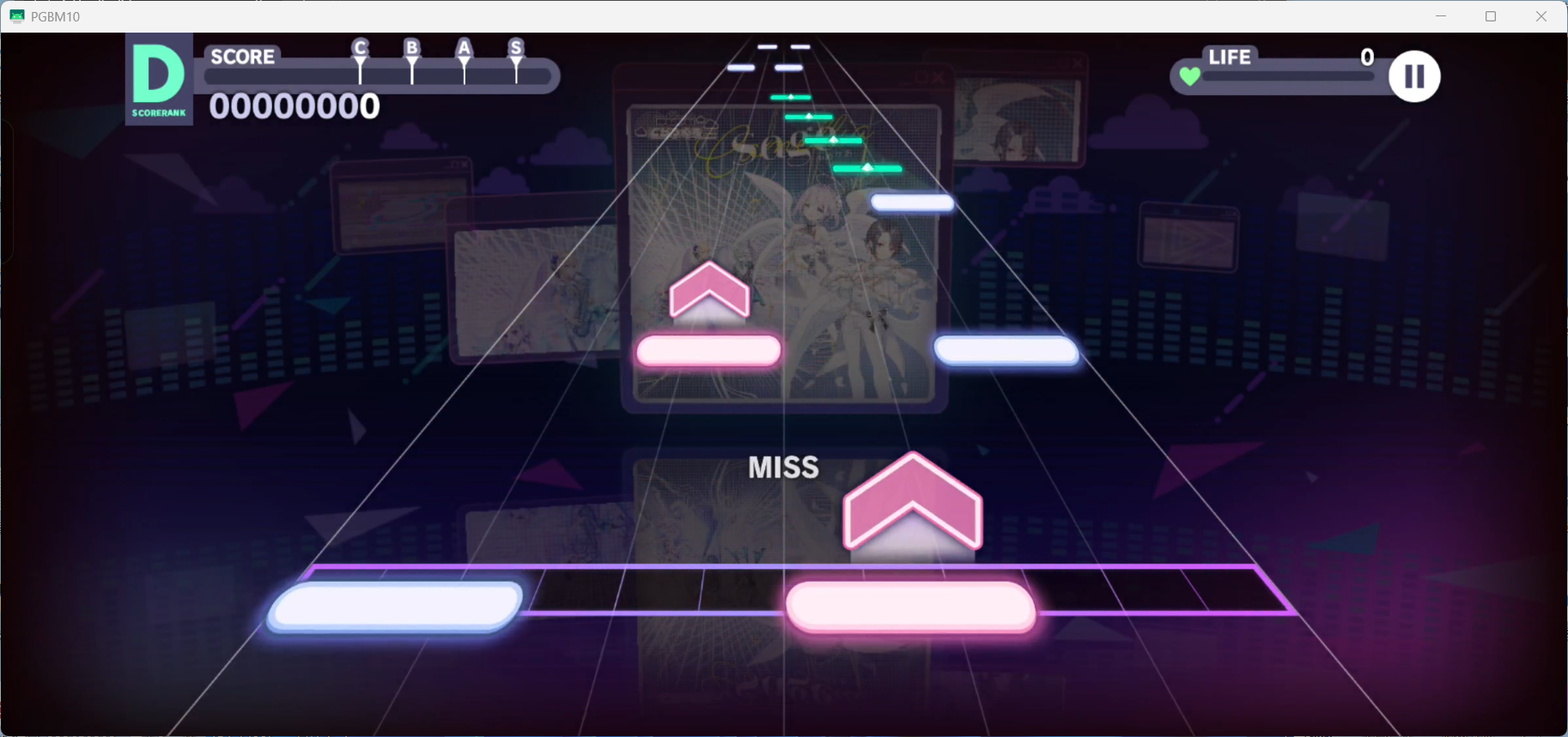flick: (842, 448, 982, 569), (670, 259, 749, 329)
sweep: (832, 162, 903, 172), (804, 136, 862, 144), (785, 112, 832, 120), (770, 94, 811, 100)
tap: (266, 581, 524, 634), (787, 581, 1038, 634), (934, 335, 1080, 366), (636, 335, 781, 366), (870, 194, 954, 212), (775, 64, 803, 72), (727, 64, 755, 71), (790, 44, 811, 50), (757, 44, 777, 50)
